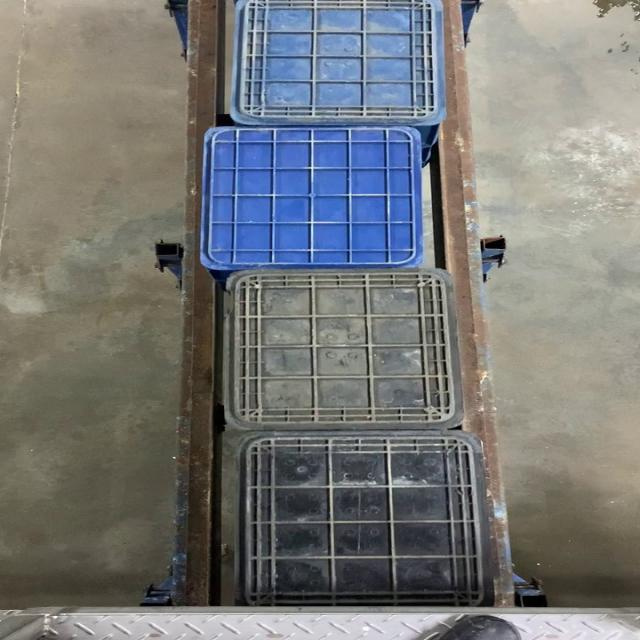Box: (220, 269, 467, 429), (197, 124, 426, 268), (231, 0, 447, 125)
